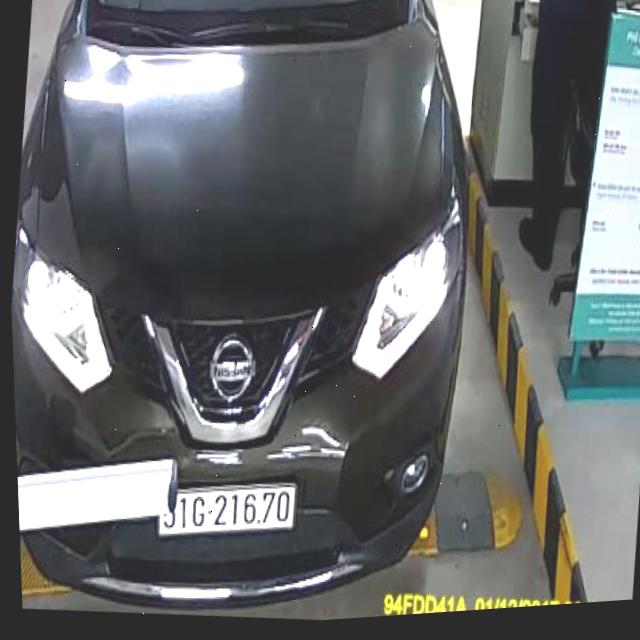car: (0, 0, 507, 624)
plate: (157, 468, 299, 552)
